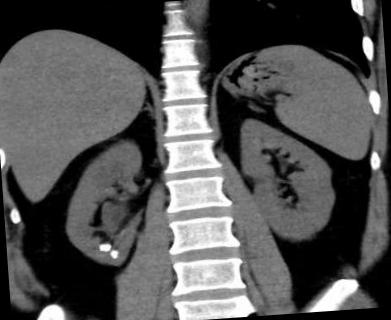Tas_Var: (96, 242, 112, 252), (108, 249, 120, 261)
